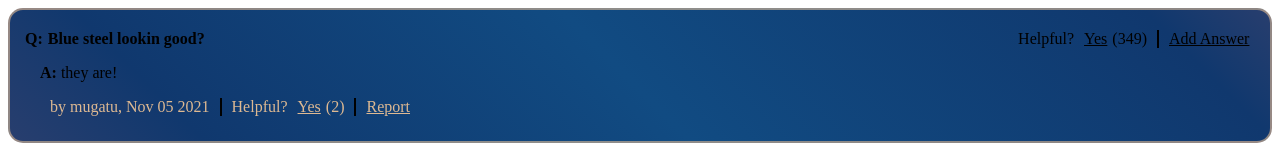
Test case: Question Component Tests › yes click increases vote count by 1
Click the button with test id "542899": x=1096, y=38 [1084,30,1107,47]
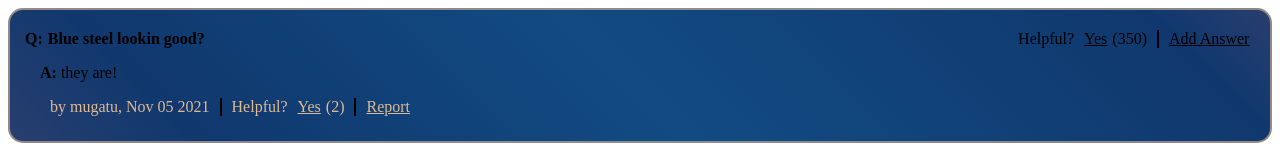
Now the text "(350)" is shown, box [1112,30,1159,48]
